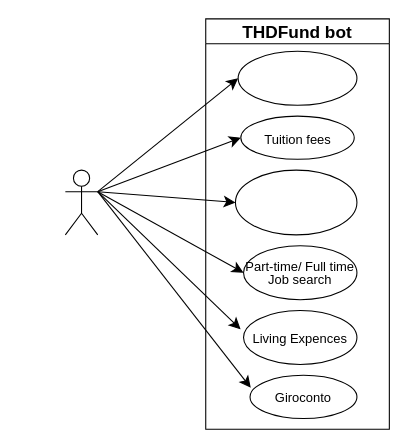
The diagram is 408 pixels wide and 448 high, and some of its shapes have lost their labels. The centre of each missing label's shape, as x and y in pixels:
"Registered User" goes at (x=81, y=202).
"Study Abroad Funding programs" goes at (x=295, y=202).
"Tuition Scholarships" goes at (x=297, y=77).
